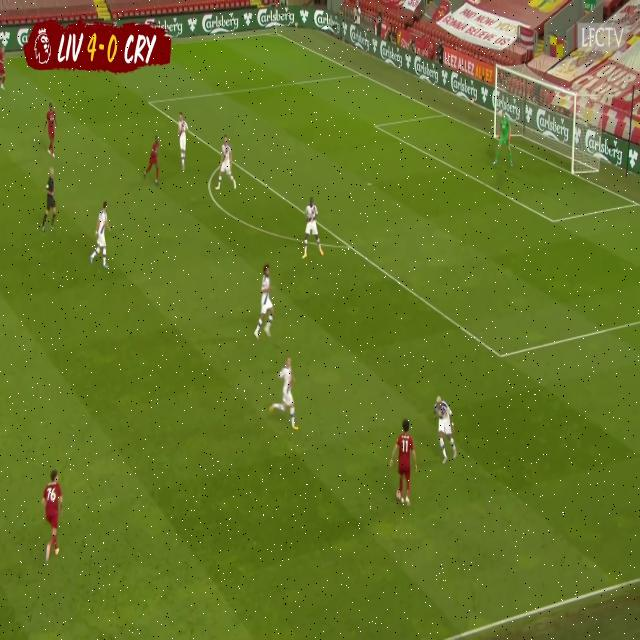Ball: (395, 486, 401, 499)
GoalKeeper: (490, 108, 513, 169)
TEAM 1: (273, 357, 299, 433), (432, 396, 457, 465), (257, 265, 277, 340), (91, 202, 111, 272), (302, 196, 324, 258), (216, 137, 236, 190), (177, 112, 190, 169)
TEAM 2: (390, 419, 418, 508), (42, 469, 63, 564), (143, 136, 163, 188), (43, 103, 56, 159), (0, 38, 9, 96)
